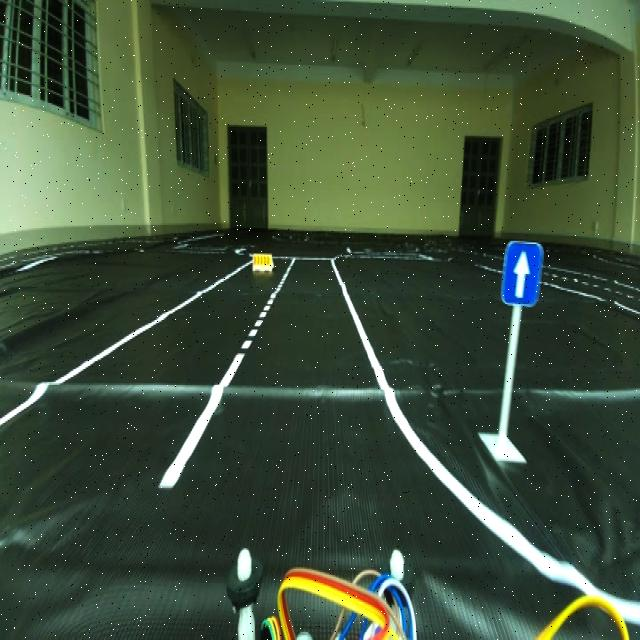onewayroad: (501, 240, 543, 314)
roadblock: (250, 249, 274, 275)
